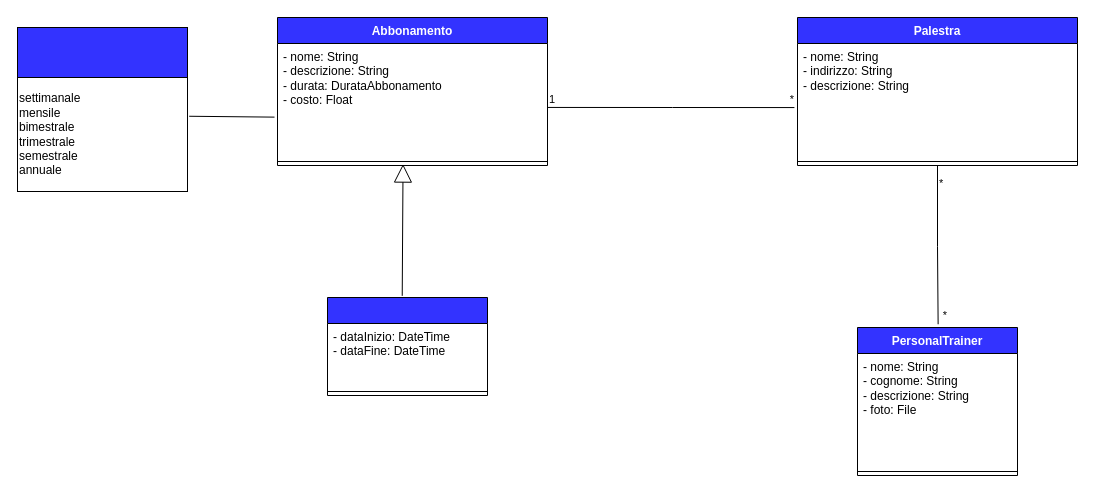
Some shapes in this 1095 by 493 pixel diagram are drawn without their labels. The shapes that lost their labels are listed below. From the top down, each one's box as (x1, y1, x2, y2) in pixels, then its label:
(16, 26, 188, 78): «enumeration» DurataAbboanamento
(326, 296, 488, 396): AbbonamentoUtente
